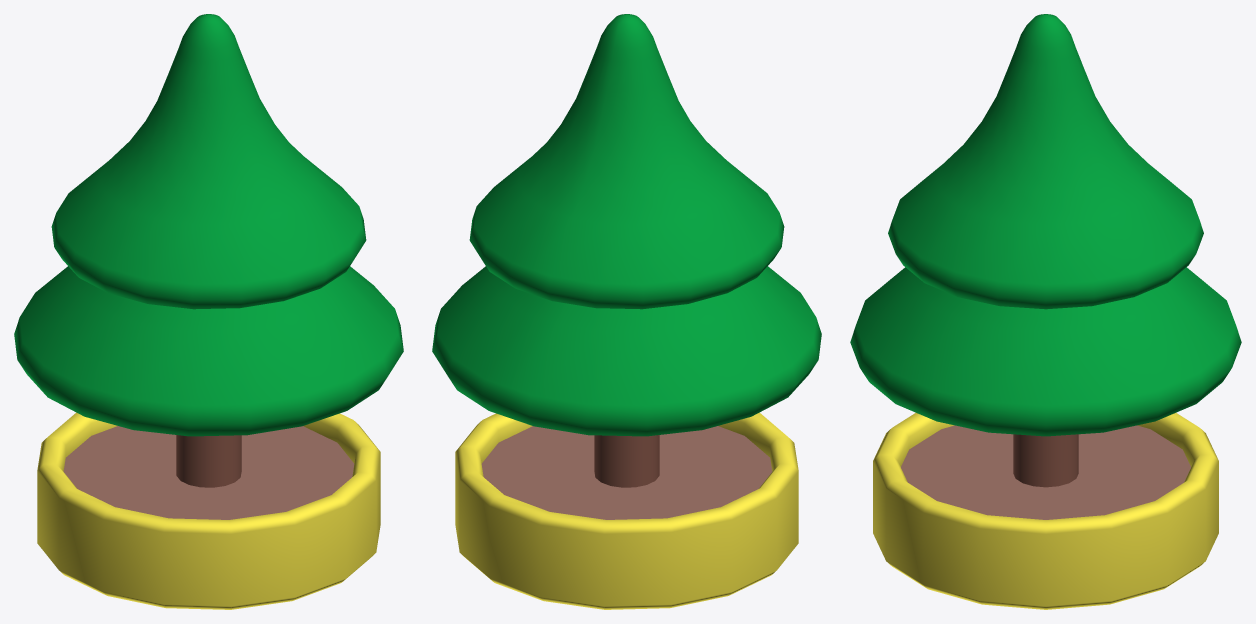
The model's file is Store_10_Tree_2.glb.
3 views of the same model, side by side, from view 1: azimuth 30°, elevation 25°; view 2: azimuth 150°, elevation 25°; view 3: azimuth 270°, elevation 25° (orthographic).
Parts seen in each view (by area): view 1: Store_10_Tree_2; view 2: Store_10_Tree_2; view 3: Store_10_Tree_2.
Boxes of the visible parts, x1=… form: Store_10_Tree_2: x1=14, y1=14, x2=403, y2=609; Store_10_Tree_2: x1=432, y1=14, x2=821, y2=609; Store_10_Tree_2: x1=850, y1=14, x2=1241, y2=609.
Size of the model in its own units: 1.72 by 2.54 by 1.72.
Materials: 1 (1 with a texture image).
